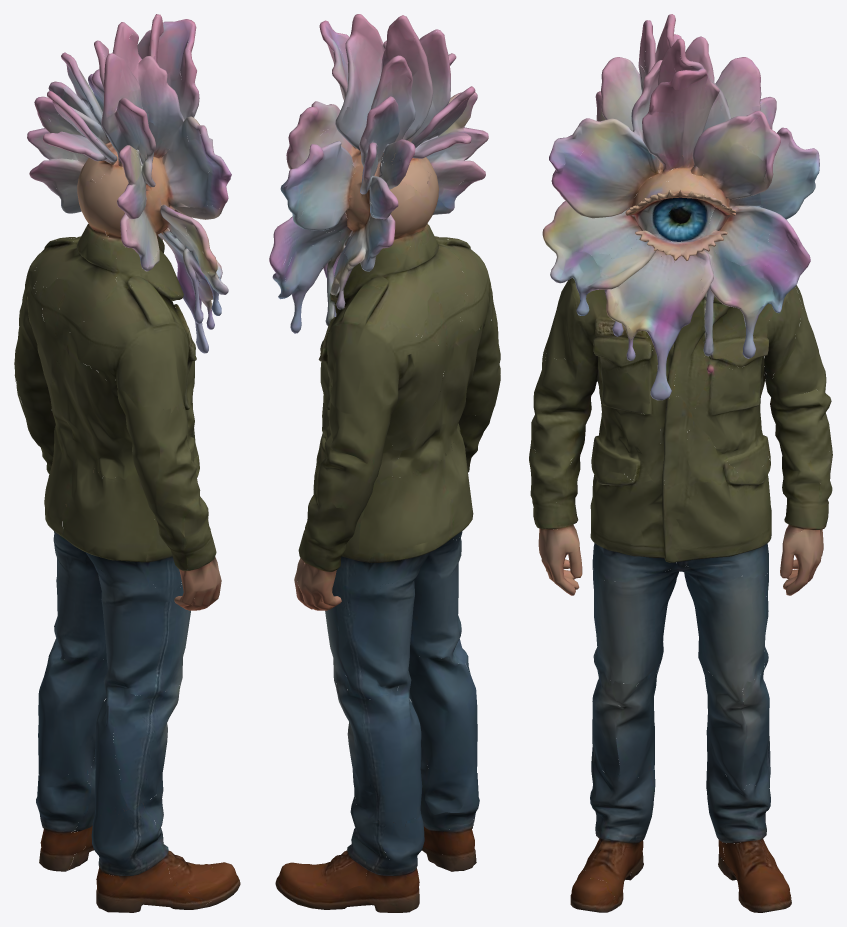
Rendered from cabbie.glb.
3 views of the same model, side by side, from view 1: azimuth 30°, elevation 25°; view 2: azimuth 150°, elevation 25°; view 3: azimuth 270°, elevation 25° (orthographic).
Parts seen in each view (by area): view 1: tripo_node_a42e675f-a73e-45f9-b257-74cbc0c52e2a; view 2: tripo_node_a42e675f-a73e-45f9-b257-74cbc0c52e2a; view 3: tripo_node_a42e675f-a73e-45f9-b257-74cbc0c52e2a.
Boxes of the visible parts, <box> form: tripo_node_a42e675f-a73e-45f9-b257-74cbc0c52e2a: <box>14,14,240,912</box>; tripo_node_a42e675f-a73e-45f9-b257-74cbc0c52e2a: <box>269,14,500,912</box>; tripo_node_a42e675f-a73e-45f9-b257-74cbc0c52e2a: <box>529,14,832,912</box>.
Size of the model in its own units: 0.1845 by 1 by 0.3165.
1 material, 1 textured.
